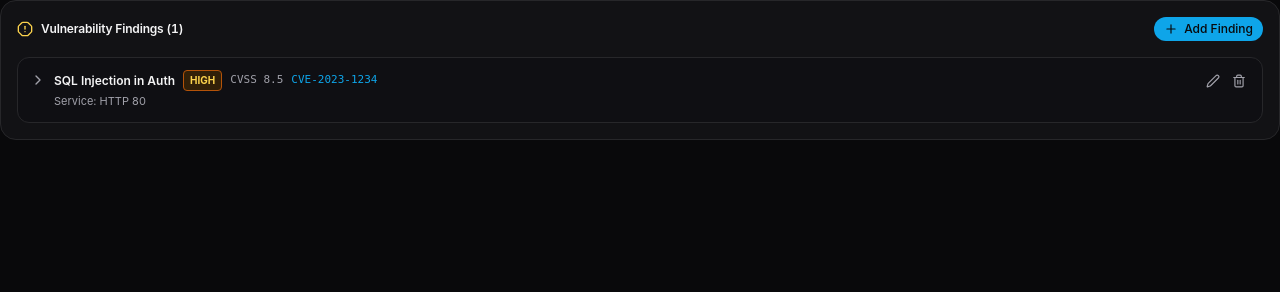
Test: Lab Study UI Components › LabFindingsPanel › renders findings with severity badges and allows expanding
Check: the text "high" is shown, box top-left (183, 70), bottom-right (222, 91)
Click to expand
Step 1. Click the text "SQL Injection in Auth" → (114, 80), box top-left (54, 72), bottom-right (175, 88)
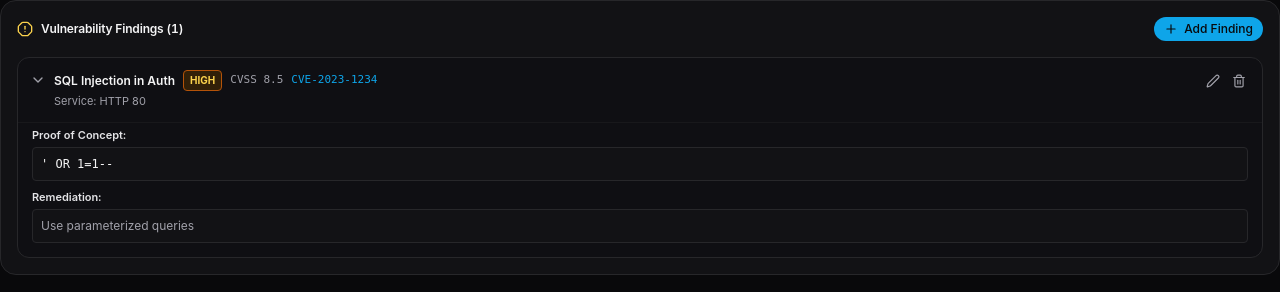
Check: the text "' OR 1=1--" is shown, box top-left (32, 146), bottom-right (1248, 180)
Check: the text "Use parameterized queries" is shown, box top-left (32, 208), bottom-right (1248, 242)
